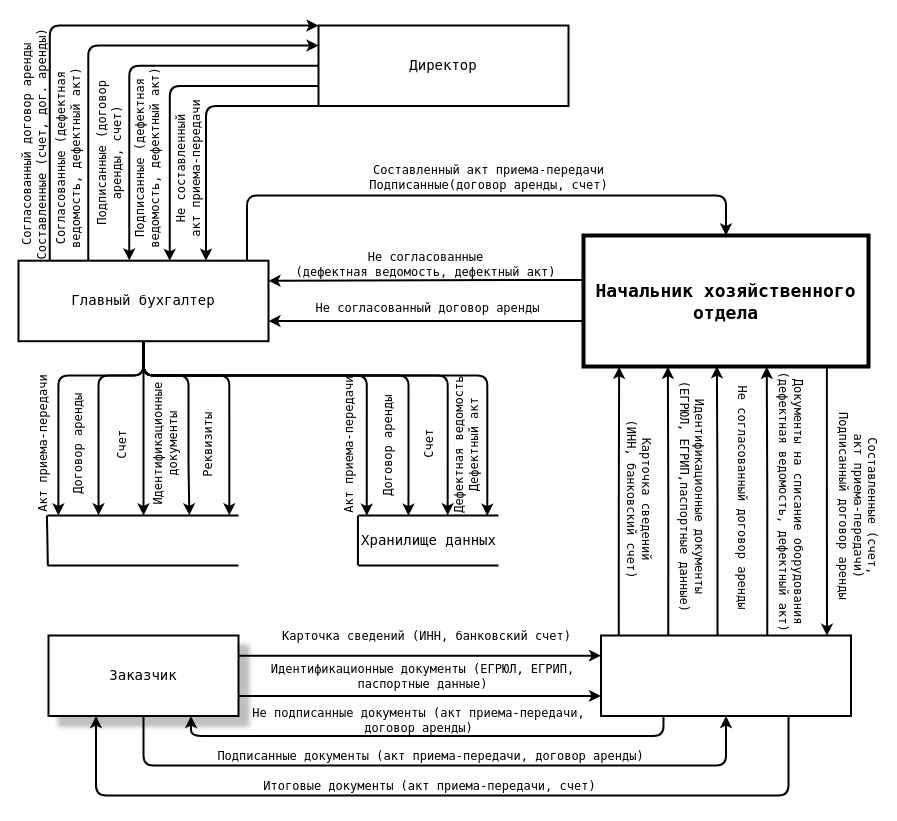
This 897x821 diagram has some shape labels left out. Here are the shapes that lost their labels. From the top down, the centre of each, then its label:
the point at 142,540: База данных 1C
the point at 726,675: Ведущий специалист Главный специалист Специалист 2-ой категории
